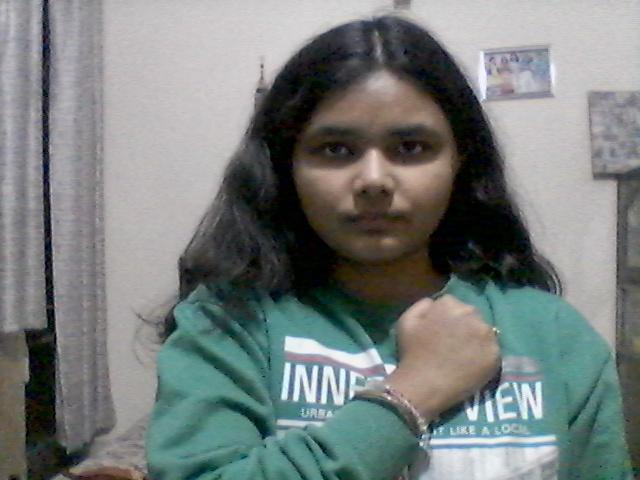sorry: (364, 291, 519, 430)
